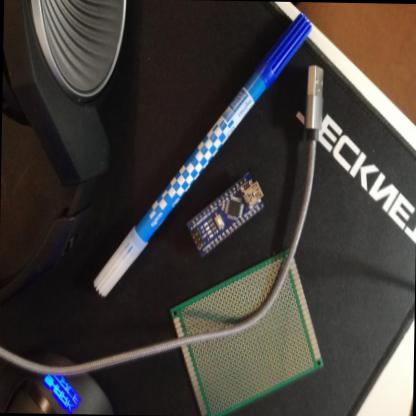Arduino_Nano: (185, 171, 269, 263)
